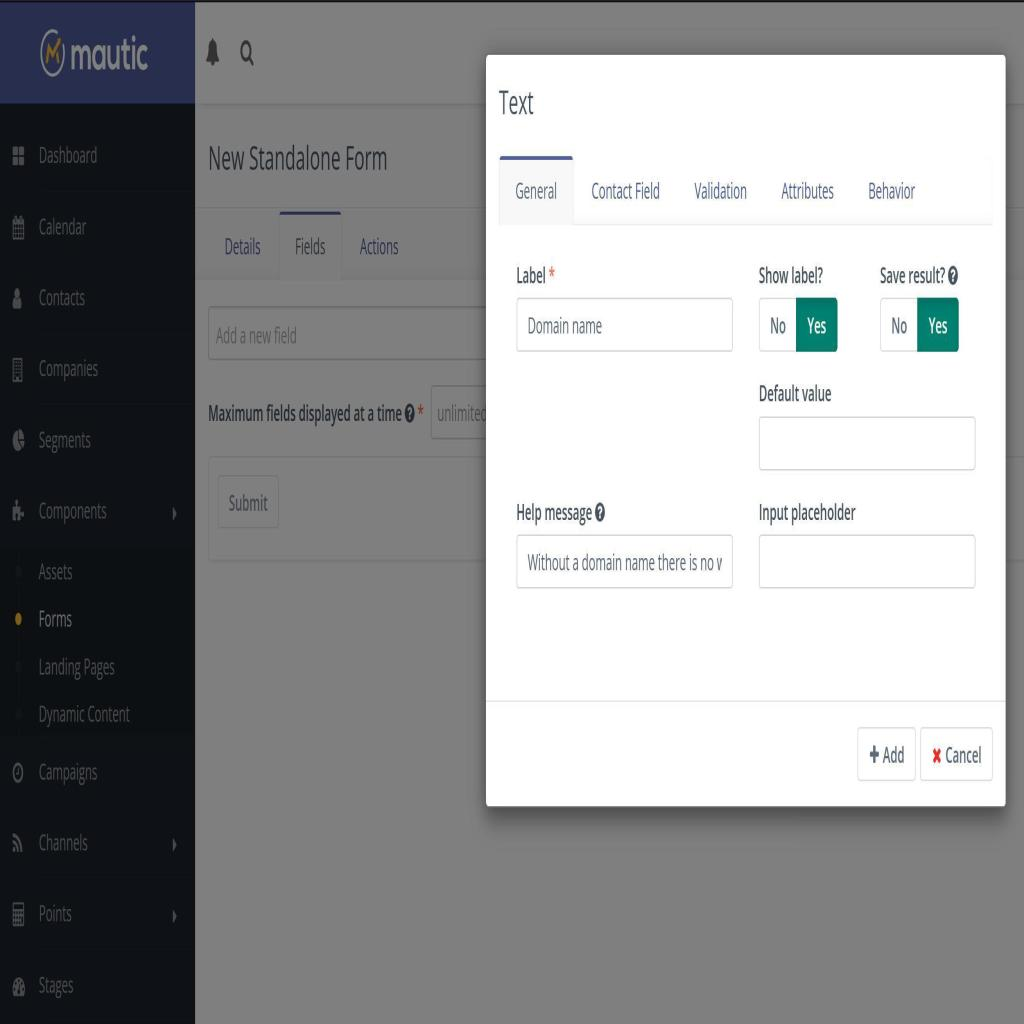button: (920, 726, 992, 780), (218, 475, 280, 531), (858, 727, 917, 781), (796, 296, 838, 351), (919, 298, 959, 352)
icon: (238, 35, 259, 69), (203, 34, 222, 70), (11, 898, 27, 934), (11, 830, 25, 857), (11, 499, 25, 526), (12, 215, 25, 244), (12, 974, 27, 999), (12, 354, 23, 388), (10, 287, 24, 313), (12, 428, 24, 458), (12, 144, 24, 170), (12, 763, 24, 783)
input: (208, 306, 486, 362), (517, 534, 733, 590), (516, 299, 733, 353), (760, 416, 976, 470), (758, 536, 976, 588)
label: (206, 138, 391, 180), (206, 402, 402, 425), (756, 496, 858, 528), (37, 702, 130, 725), (37, 654, 115, 680), (757, 379, 832, 405), (515, 499, 592, 523), (755, 264, 824, 290), (40, 498, 106, 524), (590, 178, 660, 202), (694, 172, 747, 202), (513, 174, 558, 209), (878, 265, 946, 288), (36, 357, 99, 381), (36, 144, 99, 167), (38, 761, 98, 785), (780, 177, 836, 201), (354, 232, 401, 260), (866, 180, 918, 204), (499, 84, 534, 119), (38, 430, 92, 452), (220, 231, 262, 259), (38, 214, 86, 238), (38, 830, 88, 853), (36, 972, 74, 1000), (38, 288, 85, 308), (295, 233, 328, 260), (39, 558, 72, 583), (38, 902, 74, 924), (513, 262, 548, 284), (39, 607, 71, 630), (888, 313, 911, 338), (770, 313, 787, 338)
